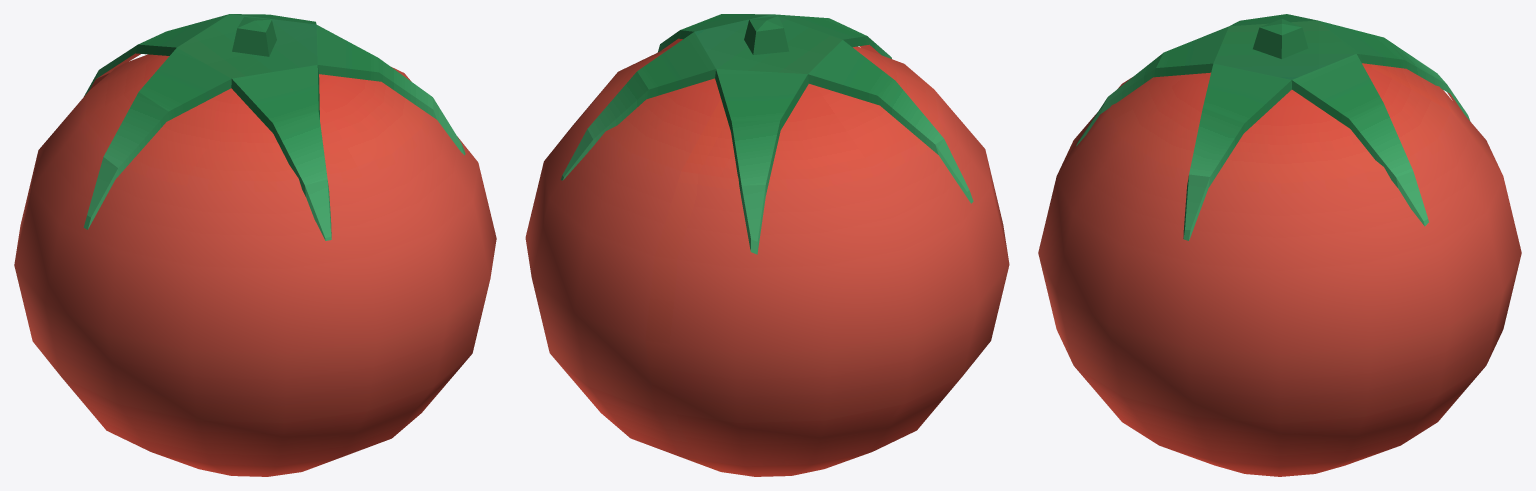
The model's file is fanqie.fbx.
3 views of the same model, side by side, from view 1: azimuth 30°, elevation 25°; view 2: azimuth 150°, elevation 25°; view 3: azimuth 270°, elevation 25° (orthographic).
Visible parts, largest first — view 1: fanqie; view 2: fanqie; view 3: fanqie.
Part boxes in pixels (x1,y1,x2,y2): fanqie: (14,14,496,476); fanqie: (525,14,1009,476); fanqie: (1038,14,1521,476).
Size of the model in its own units: 29.98 by 29.14 by 29.98.
